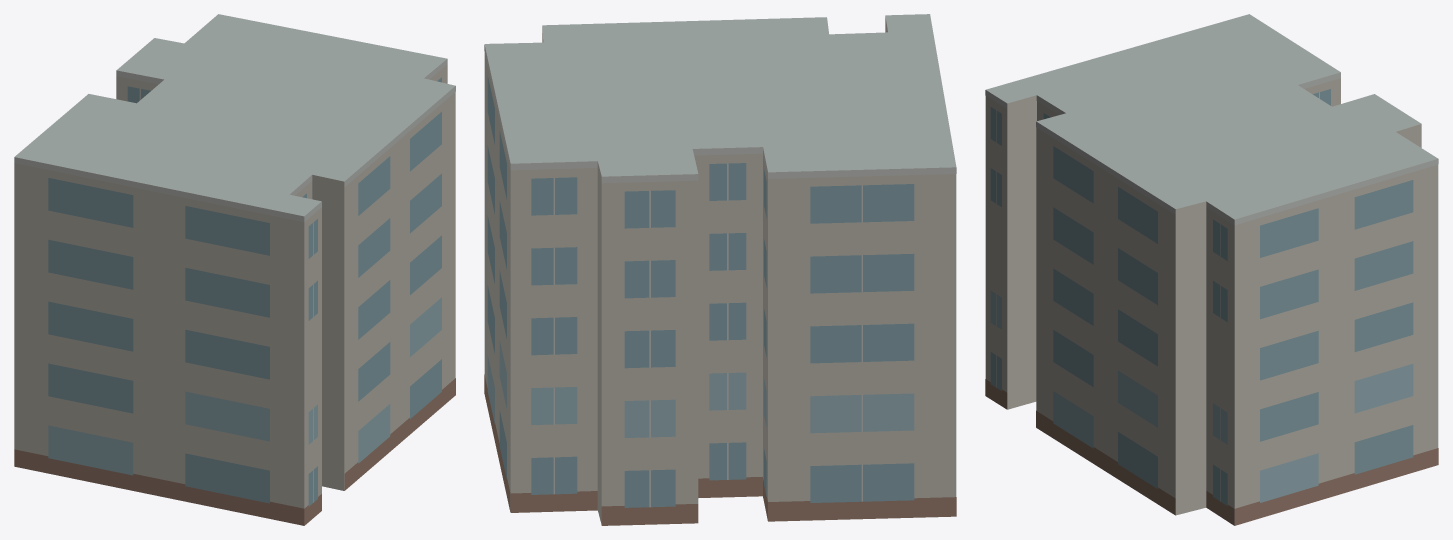
File: survey-upis-32679379.glb
3 renders of one model, left to right at view 1: azimuth 30°, elevation 25°; view 2: azimuth 150°, elevation 25°; view 3: azimuth 270°, elevation 25°, orthographic. The views are drawn at different scales.
Parts seen in each view (by area): view 1: survey-upis-32679379.tmp; view 2: survey-upis-32679379.tmp; view 3: survey-upis-32679379.tmp.
Boxes of the visible parts, x1,y1,x2,y2 form: survey-upis-32679379.tmp: (14, 14, 455, 525); survey-upis-32679379.tmp: (484, 14, 956, 525); survey-upis-32679379.tmp: (985, 14, 1438, 525).
Bounding box in the file's own units: 18.65 × 12.95 × 17.37.
